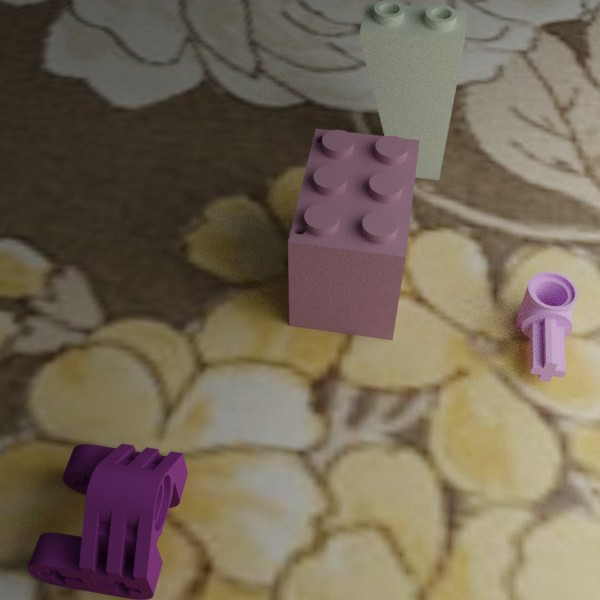lego: (287, 128, 419, 340), (27, 443, 187, 600), (359, 0, 467, 180), (516, 271, 577, 381)
